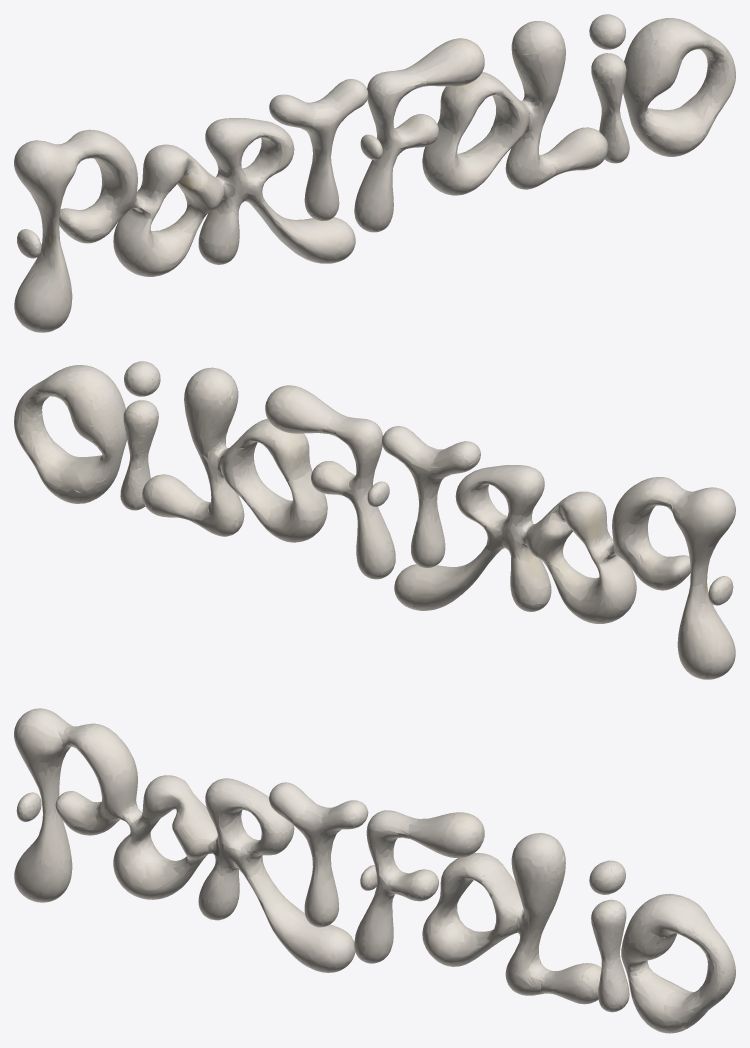
Rendered from portfolio.glb.
3 views of the same model, one above another, from view 1: azimuth 30°, elevation 25°; view 2: azimuth 150°, elevation 25°; view 3: azimuth 330°, elevation 25° (orthographic).
Parts seen in each view (by area): view 1: output_unwrapped; view 2: output_unwrapped; view 3: output_unwrapped.
Boxes of the visible parts, <box> form: output_unwrapped: <box>14,14,735,332</box>; output_unwrapped: <box>14,361,735,679</box>; output_unwrapped: <box>14,708,735,1033</box>.
Bounding box in the file's own units: 1.9 × 0.4775 × 0.1533.
1 material, 1 textured.
